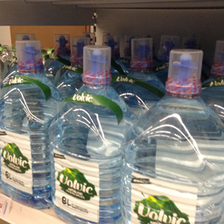water: (117, 48, 222, 224), (46, 44, 136, 223), (2, 40, 55, 210)
